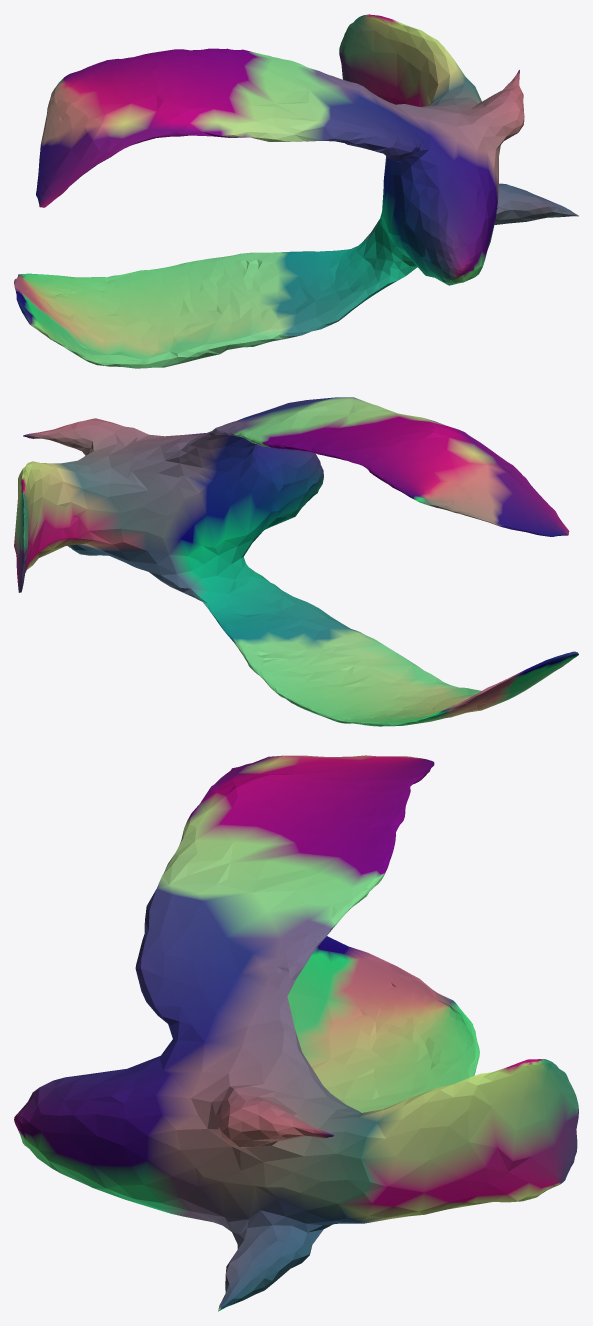
The model's file is bird2-5.off.obj.
The picture shows the model from 3 angles, top to bottom: view 1: azimuth 30°, elevation 25°; view 2: azimuth 150°, elevation 25°; view 3: azimuth 270°, elevation 25°; orthographic projection. The views are drawn at different scales.
Size of the model in its own units: 1.51 by 0.7163 by 1.01.
